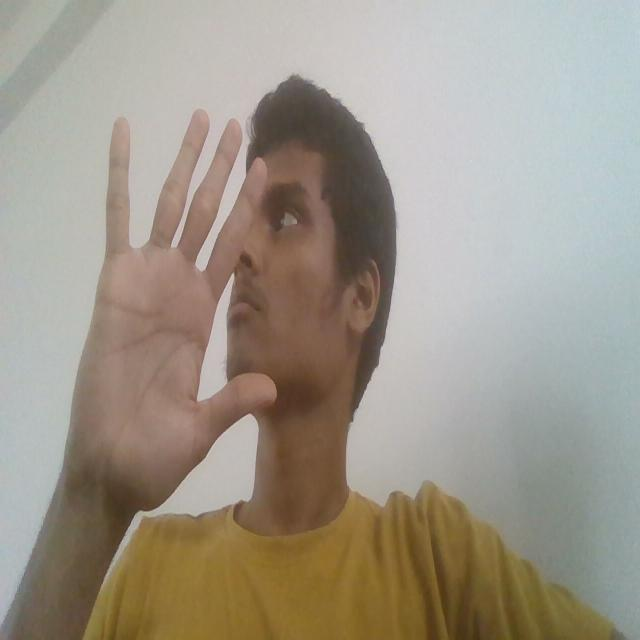Hello: (53, 88, 281, 547)
